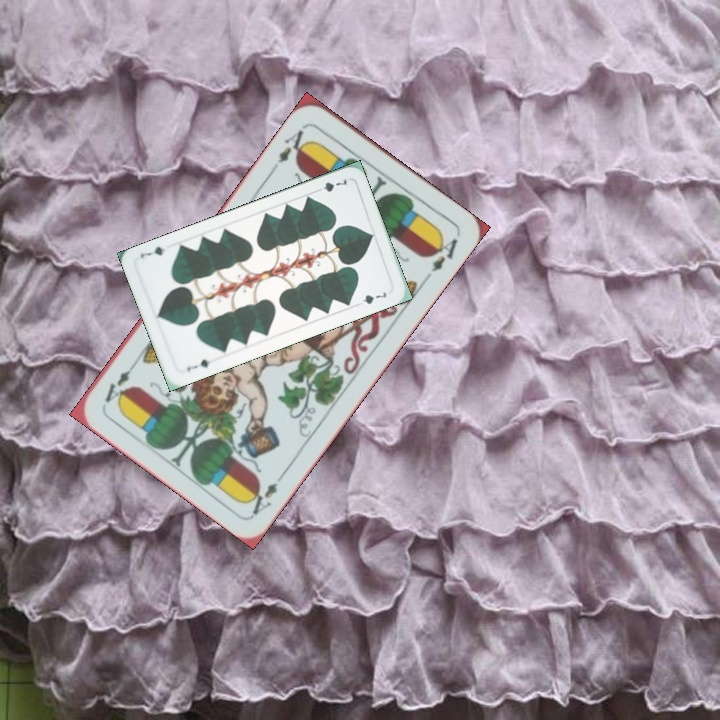EA: (243, 467, 289, 518), (273, 121, 312, 166)
G7: (311, 173, 349, 195), (183, 355, 213, 374)
